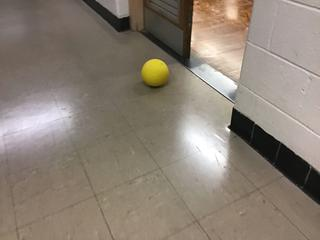power_cell: (141, 61, 172, 87)
